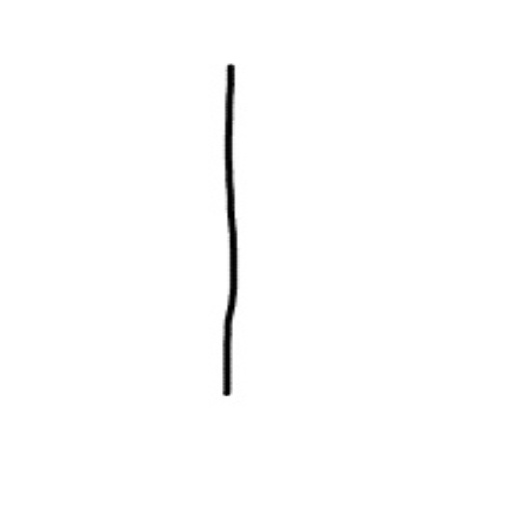line: (215, 65, 261, 405)
